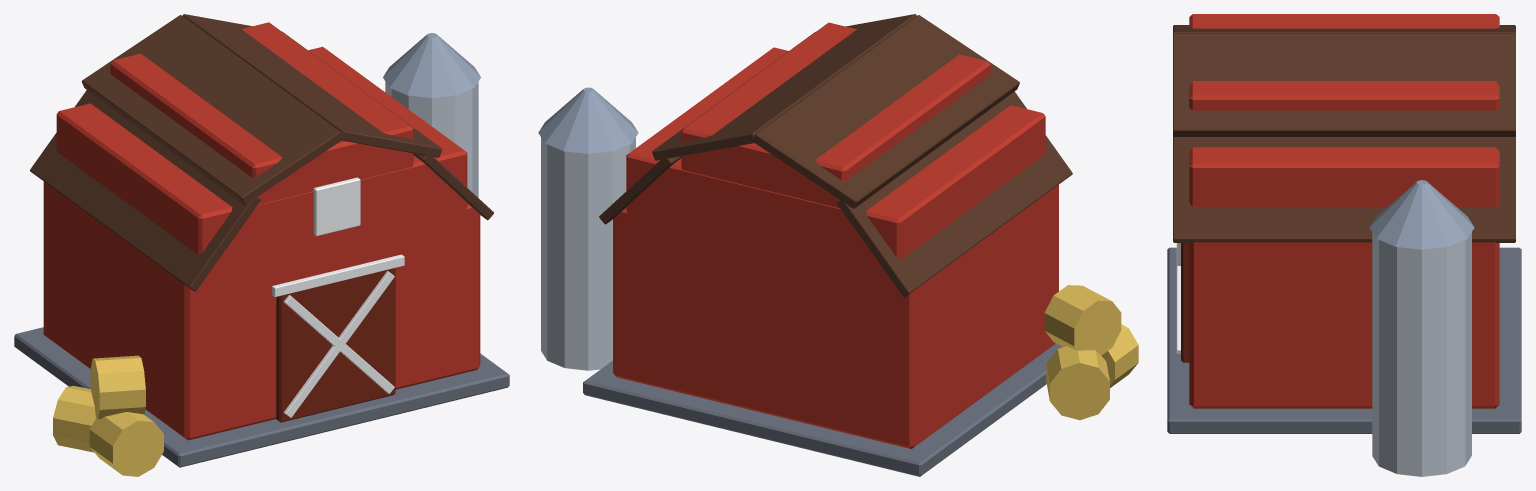
The model's file is barn.glb.
3 views of the same model, side by side, from view 1: azimuth 30°, elevation 25°; view 2: azimuth 150°, elevation 25°; view 3: azimuth 270°, elevation 25° (orthographic). The views are drawn at different scales.
Parts seen in each view (by area): view 1: g_m_c0392b, g_m_5b3a2a, g_m_7a2a1a, g_m_6b7280, g_m_e6c35c, g_m_f8fafc, g_m_94a3b8, g_m_cbd5e1; view 2: g_m_c0392b, g_m_5b3a2a, g_m_cbd5e1, g_m_6b7280, g_m_e6c35c, g_m_94a3b8; view 3: g_m_c0392b, g_m_5b3a2a, g_m_cbd5e1, g_m_6b7280, g_m_94a3b8, g_m_7a2a1a, g_m_f8fafc.
Boxes of the visible parts, x1=… form: g_m_c0392b: x1=43, y1=22, x2=480, y2=440; g_m_5b3a2a: x1=30, y1=14, x2=493, y2=291; g_m_7a2a1a: x1=276, y1=268, x2=395, y2=422; g_m_6b7280: x1=14, y1=327, x2=509, y2=467; g_m_e6c35c: x1=53, y1=355, x2=163, y2=476; g_m_f8fafc: x1=272, y1=177, x2=404, y2=417; g_m_94a3b8: x1=383, y1=33, x2=480, y2=97; g_m_cbd5e1: x1=385, y1=82, x2=478, y2=197; g_m_c0392b: x1=613, y1=22, x2=1058, y2=448; g_m_5b3a2a: x1=599, y1=14, x2=1072, y2=297; g_m_cbd5e1: x1=541, y1=137, x2=635, y2=370; g_m_6b7280: x1=583, y1=343, x2=1062, y2=476; g_m_e6c35c: x1=1044, y1=285, x2=1138, y2=420; g_m_94a3b8: x1=538, y1=87, x2=638, y2=153; g_m_c0392b: x1=1189, y1=14, x2=1499, y2=408; g_m_5b3a2a: x1=1173, y1=25, x2=1515, y2=242; g_m_cbd5e1: x1=1372, y1=232, x2=1471, y2=476; g_m_6b7280: x1=1167, y1=247, x2=1521, y2=433; g_m_94a3b8: x1=1369, y1=180, x2=1474, y2=249; g_m_7a2a1a: x1=1181, y1=243, x2=1189, y2=362; g_m_f8fafc: x1=1176, y1=243, x2=1180, y2=353.
Size of the model in its own units: 10.88 by 6.43 by 6.4.
